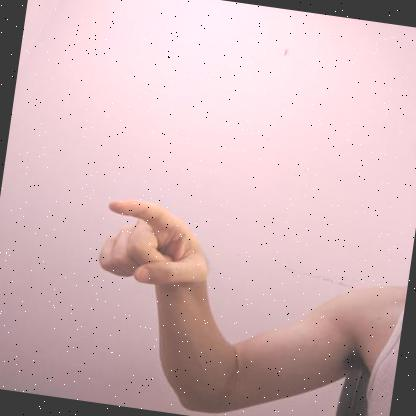Z: (99, 199, 207, 284)
